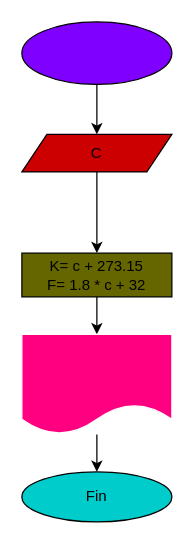
This 194x544 diagram has some shape labels left out. Each missing label, with the centre of its shape:
F,K: (96,383)
Inicio: (96,52)
